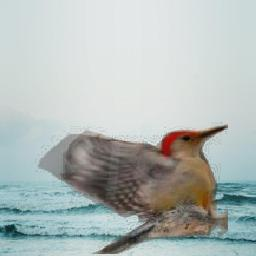Woodpecker: (36, 122, 229, 254)
